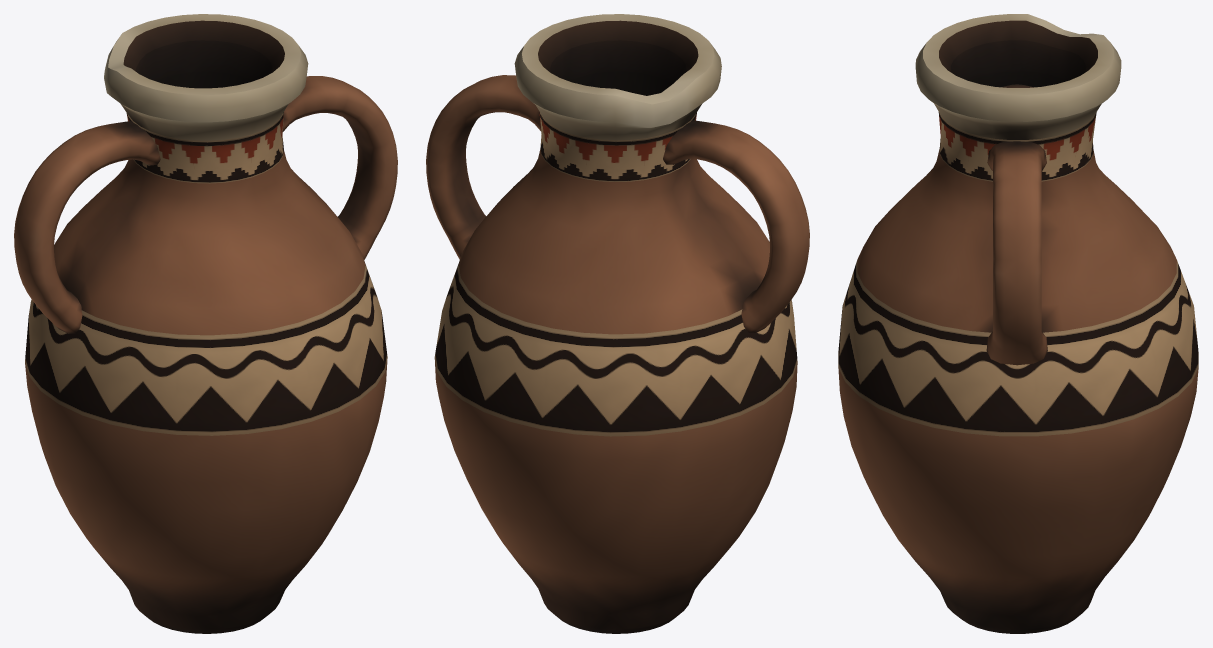
File: clay_amphora.fbx
3 views of the same model, side by side, from view 1: azimuth 30°, elevation 25°; view 2: azimuth 150°, elevation 25°; view 3: azimuth 270°, elevation 25° (orthographic).
Visible parts, largest first — view 1: clay_amphora_Body; view 2: clay_amphora_Body; view 3: clay_amphora_Body.
Boxes of the visible parts, x1,y1,x2,y2 form: clay_amphora_Body: (14,14,397,633); clay_amphora_Body: (426,14,809,633); clay_amphora_Body: (838,14,1198,633).
Size of the model in its own units: 0.2676 by 0.38 by 0.2249.
Materials: 1 (1 with a texture image).
